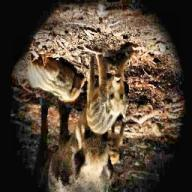boar: (45, 104, 113, 192), (85, 45, 133, 135), (27, 56, 85, 103)
